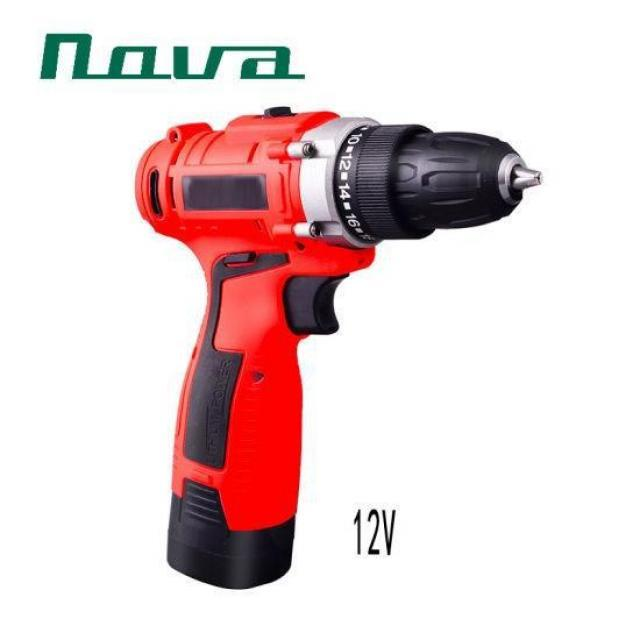drill: (133, 107, 544, 590)
